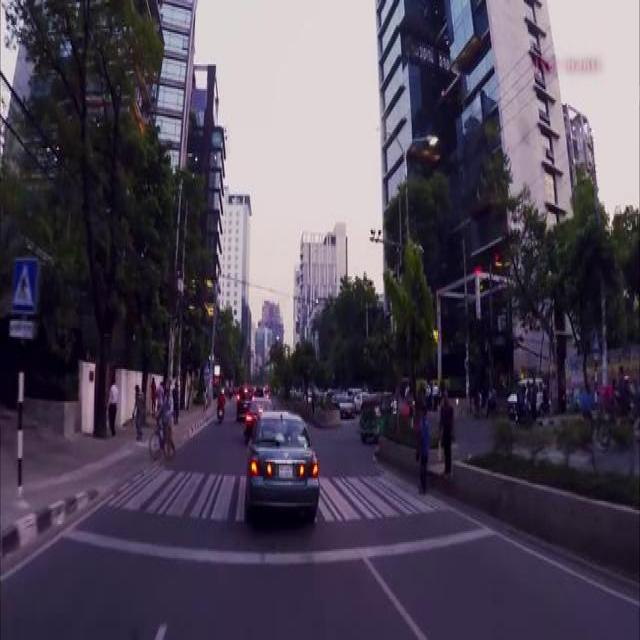bicycle: (148, 410, 174, 462)
car: (244, 407, 318, 518), (244, 396, 272, 433)
minivan: (506, 374, 544, 416)
motorbike: (215, 396, 223, 422)
three wheelers -CNG-: (358, 391, 392, 438)
